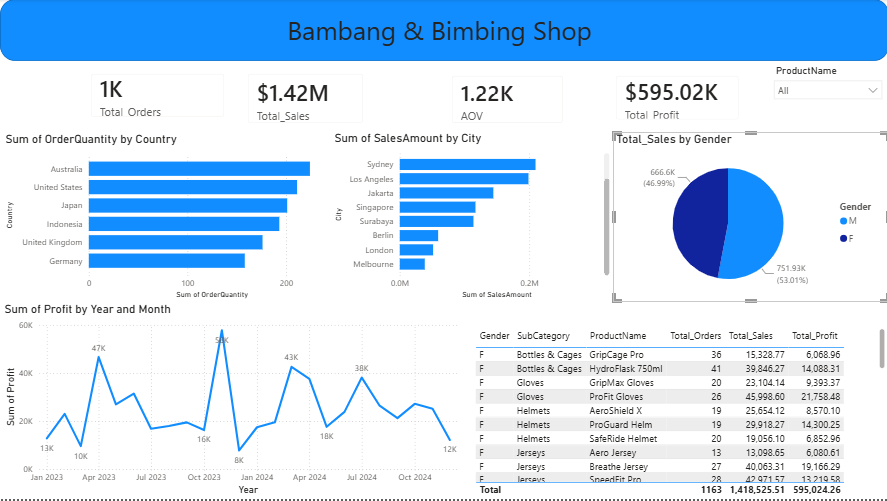

What the dashboard file says about the page in this screenshot:
{"tool":"powerbi","page":{"name":"Page 1","canvas":[1280,720],"ordinal":0},"visuals":[{"type":"cardVisual","fields":{"Data":["Sales.Total_Sales"]},"box":[339.8,90.7,200.2,105.1],"z":0},{"type":"cardVisual","fields":{"Data":["Sales.AOV"]},"box":[633.6,93.6,194.4,102.2],"z":1000},{"type":"cardVisual","fields":{"Data":["Sales.Total_Profit"]},"box":[869.8,93.6,211.7,97.9],"z":2000},{"type":"lineChart","fields":{"Y":["Sum(Sales.Profit)"],"Category":["Sales.OrderDate.Variation.Date Hierarchy.Year","Sales.OrderDate.Variation.Date Hierarchy.Month"]},"box":[1.4,436.3,675.4,283.7],"z":3000},{"type":"barChart","fields":{"Y":["Sum(Sales.OrderQuantity)"],"Category":["Territories.Country"]},"box":[2.9,191.5,495.4,244.8],"z":4000},{"type":"barChart","fields":{"Category":["Customers.City"],"Y":["Sum(Sales.SalesAmount)"]},"box":[476.6,190.1,406.1,246.2],"z":5000},{"type":"pieChart","fields":{"Y":["Sales.Total_Sales"],"Category":["Customers.Gender"]},"box":[882.7,191.5,397.4,244.8],"z":6000},{"type":"slicer","fields":{"Values":["Products.ProductName"]},"box":[1104.5,89.3,175.7,100.8],"z":7000},{"type":"tableEx","fields":{"Values":["Customers.Gender","Products.SubCategory","Products.ProductName","Sales.Total_Orders","Sales.Total_Sales","Sales.Total_Profit"]},"box":[679.7,469.4,600.5,250.6],"z":8000},{"type":"shape","box":[0,0,1280.2,89.3],"z":9000},{"type":"textbox","box":[285.1,14.4,695.5,63.4],"z":10000},{"type":"cardVisual","fields":{"Data":["Sales.Total_Orders"]},"box":[113.8,90.7,226.1,96.5],"z":11000}]}

Visuals, with their boxes in screenshot pixels (x1, y1, x2, y2), scaled from the page's 1280x720 canvas onto the 887x501 screenshot:
cardVisual - Sales.Total_Sales: Rect(235, 63, 374, 136)
cardVisual - Sales.AOV: Rect(439, 65, 574, 136)
cardVisual - Sales.Total_Profit: Rect(603, 65, 749, 133)
lineChart - Sum(Sales.Profit) x Sales.OrderDate.Variation.Date Hierarchy.Year: Rect(1, 304, 469, 500)
barChart - Sum(Sales.OrderQuantity) x Territories.Country: Rect(2, 133, 345, 304)
barChart - Customers.City x Sum(Sales.SalesAmount): Rect(330, 132, 612, 304)
pieChart - Sales.Total_Sales x Customers.Gender: Rect(612, 133, 886, 304)
slicer - Products.ProductName: Rect(765, 62, 886, 132)
tableEx - Customers.Gender x Products.SubCategory: Rect(471, 327, 886, 500)
shape: Rect(0, 0, 886, 62)
textbox: Rect(198, 10, 680, 54)
cardVisual - Sales.Total_Orders: Rect(79, 63, 236, 130)
